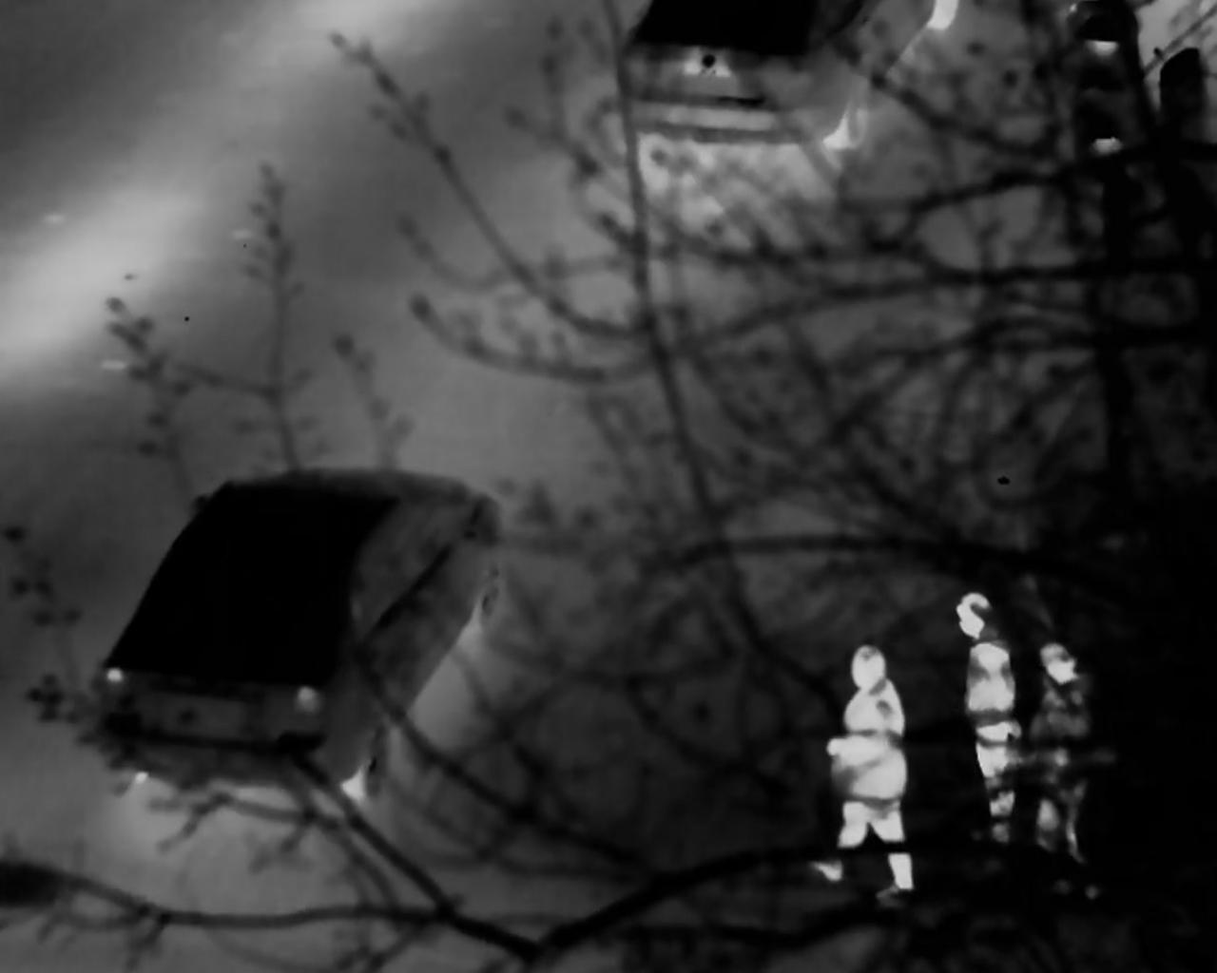person: (822, 642, 924, 884), (955, 584, 1034, 845), (1030, 639, 1088, 844)
